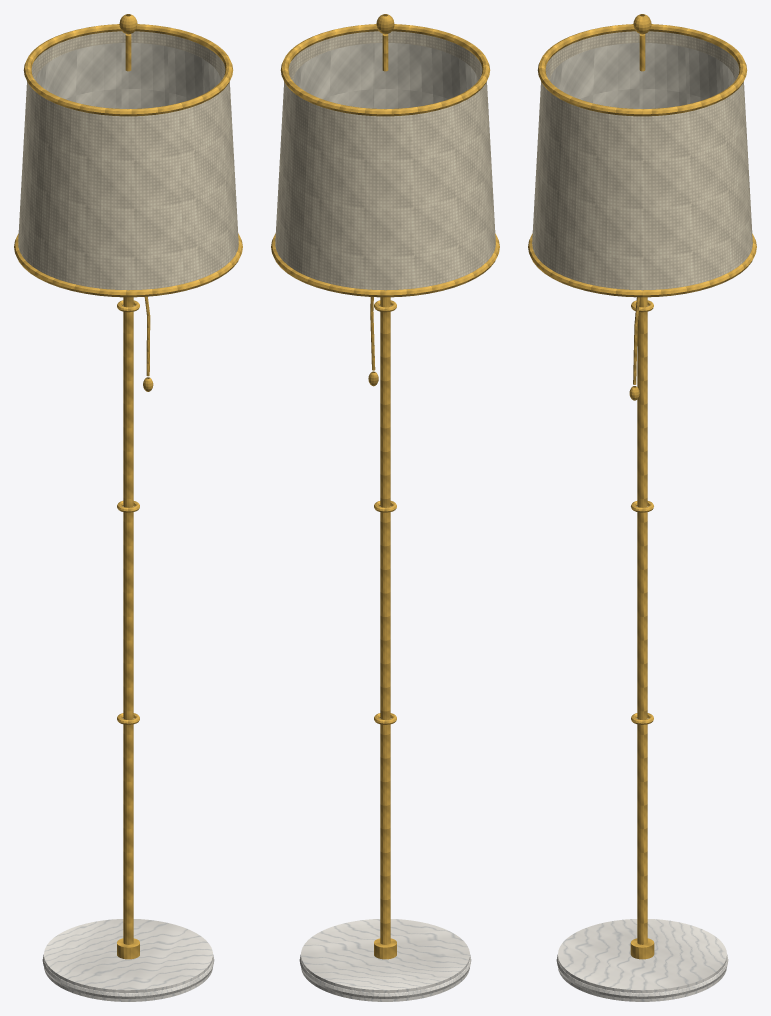
Rendered from floor.glb.
The picture shows the model from 3 angles, left to right: view 1: azimuth 30°, elevation 25°; view 2: azimuth 150°, elevation 25°; view 3: azimuth 270°, elevation 25°; orthographic projection.
Parts seen in each view (by area): view 1: floor; view 2: floor; view 3: floor.
Boxes of the visible parts, x1,y1,x2,y2 form: floor: (14,14,242,1001); floor: (271,14,499,1001); floor: (528,14,756,1001).
Bounding box in the file's own units: 0.352 × 1.61 × 0.352.
Materials: 11 (11 with a texture image).
